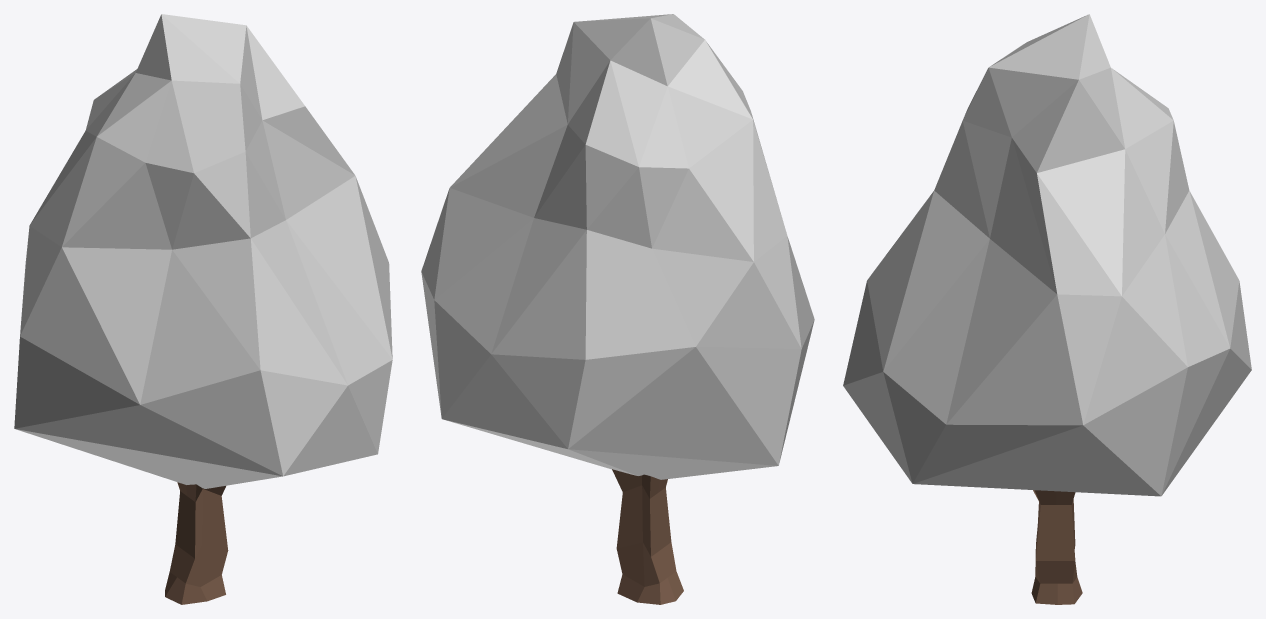
The model's file is Tree_27_White.fbx.
3 renders of one model, left to right at view 1: azimuth 30°, elevation 25°; view 2: azimuth 150°, elevation 25°; view 3: azimuth 270°, elevation 25°, orthographic. The views are drawn at different scales.
Parts seen in each view (by area): view 1: Tree_27_White_Part_1, Tree_27_White_Part_2; view 2: Tree_27_White_Part_1, Tree_27_White_Part_2; view 3: Tree_27_White_Part_1, Tree_27_White_Part_2.
Part boxes in pixels (box(x1,y1,x2,y2)): Tree_27_White_Part_1: box(14, 14, 392, 488); Tree_27_White_Part_2: box(165, 482, 228, 604); Tree_27_White_Part_1: box(421, 14, 814, 479); Tree_27_White_Part_2: box(612, 469, 683, 604); Tree_27_White_Part_1: box(843, 14, 1251, 496); Tree_27_White_Part_2: box(1031, 490, 1082, 604).
Bounding box in the file's own units: 470 × 696 × 451.
